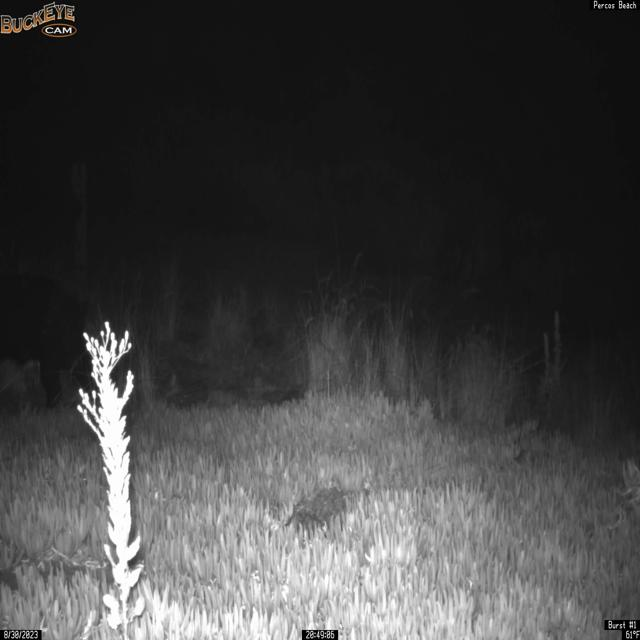pig: (0, 271, 96, 410)
